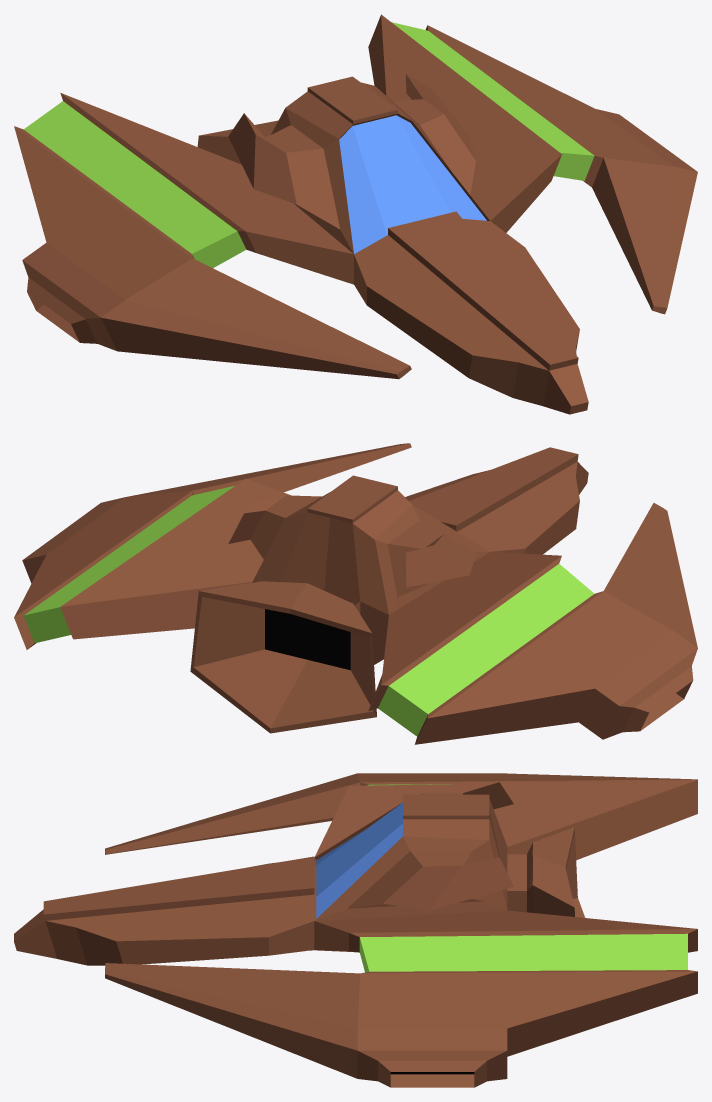
Rendered from SpeedRaptor.fbx.
3 renders of one model, top to bottom at view 1: azimuth 30°, elevation 25°; view 2: azimuth 150°, elevation 25°; view 3: azimuth 270°, elevation 25°, orthographic. The views are drawn at different scales.
Parts seen in each view (by area): view 1: SpeedRaptor; view 2: SpeedRaptor; view 3: SpeedRaptor.
Part boxes in pixels (x1,y1,x2,y2): SpeedRaptor: [14, 14, 697, 414]; SpeedRaptor: [14, 443, 697, 744]; SpeedRaptor: [14, 773, 697, 1087].
Size of the model in its own units: 9.13 by 2.46 by 9.13.
